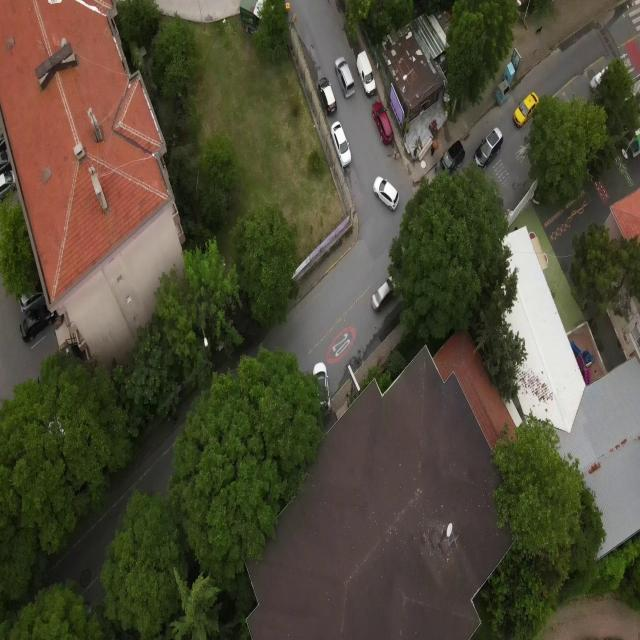p3rson: (429, 140, 438, 157)
